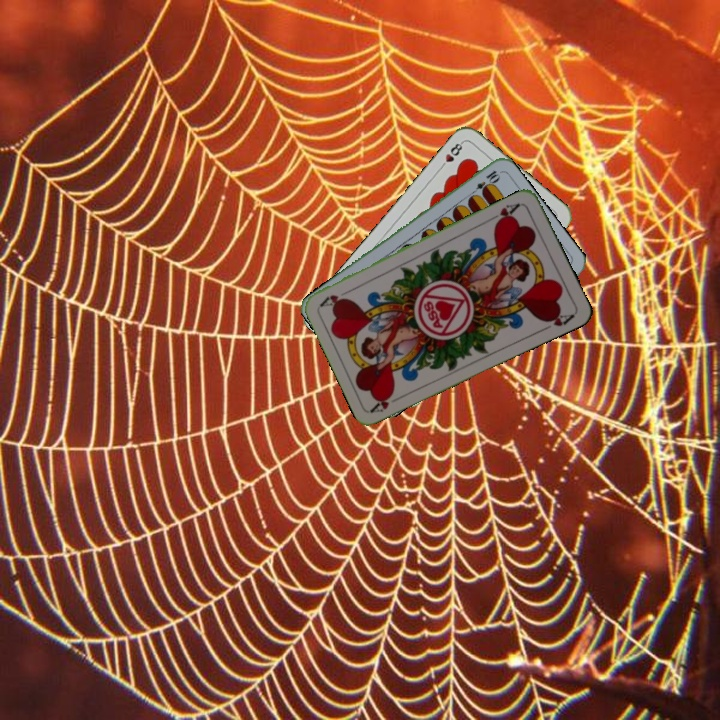E10: (466, 166, 502, 198)
H8: (436, 138, 466, 172)
HA: (368, 388, 406, 415), (486, 199, 522, 227)
